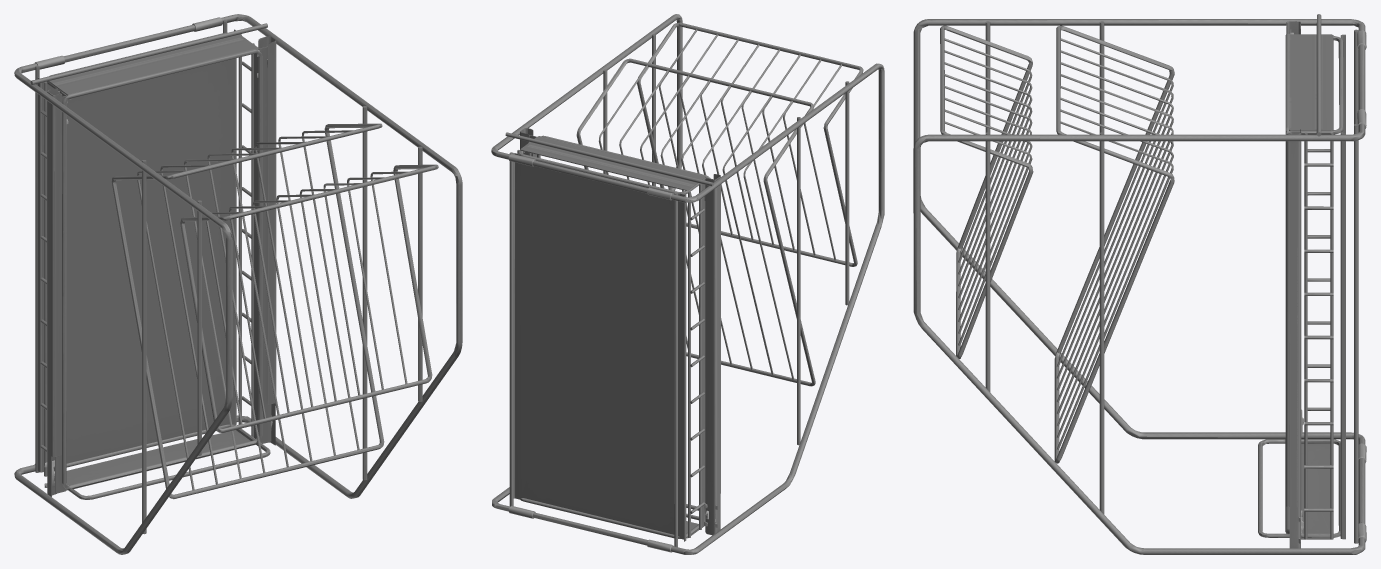
File: raw_model.glb
3 renders of one model, left to right at view 1: azimuth 30°, elevation 25°; view 2: azimuth 150°, elevation 25°; view 3: azimuth 270°, elevation 25°, orthographic. The views are drawn at different scales.
Parts seen in each view (by area): view 1: raw_model.024; view 2: raw_model.024; view 3: raw_model.024.
Part boxes in pixels (bbox=[...]): raw_model.024: bbox=[14, 14, 462, 554]; raw_model.024: bbox=[491, 14, 884, 554]; raw_model.024: bbox=[913, 14, 1366, 554].
Bounding box in the file's own units: 0.2464 × 0.411 × 0.3972.
Materials: 1 (1 with a texture image).
